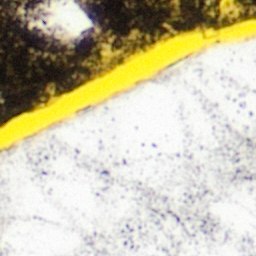cement_matrix: (0, 0, 229, 124), (235, 0, 255, 16)
cracks: (0, 0, 255, 151)
gravel_crushed_stones: (0, 36, 255, 255), (23, 0, 95, 44)
